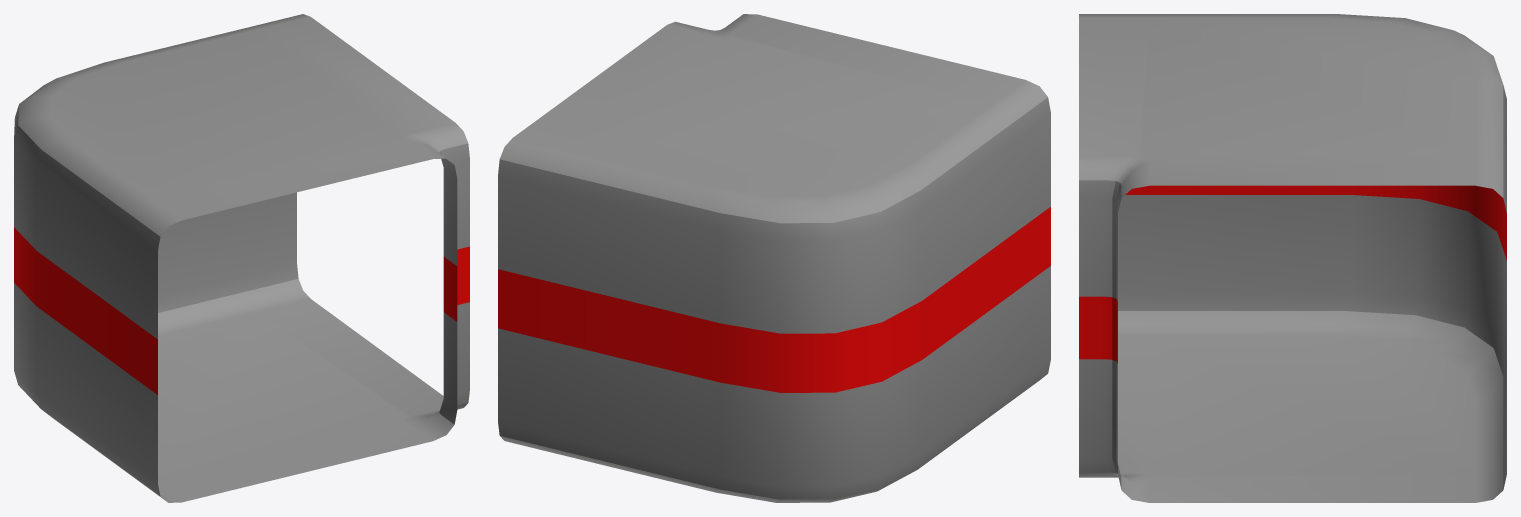
The model's file is HallWay_Corner_001.FBX.
The picture shows the model from 3 angles, left to right: view 1: azimuth 30°, elevation 25°; view 2: azimuth 150°, elevation 25°; view 3: azimuth 270°, elevation 25°; orthographic projection. The views are drawn at different scales.
Parts seen in each view (by area): view 1: HallWay_Corner_001; view 2: HallWay_Corner_001; view 3: HallWay_Corner_001.
Boxes of the visible parts, x1,y1,x2,y2 form: HallWay_Corner_001: (14,14,469,502); HallWay_Corner_001: (498,14,1050,502); HallWay_Corner_001: (1079,14,1506,502).
Bounding box in the file's own units: 2.75 × 2.25 × 2.75.
